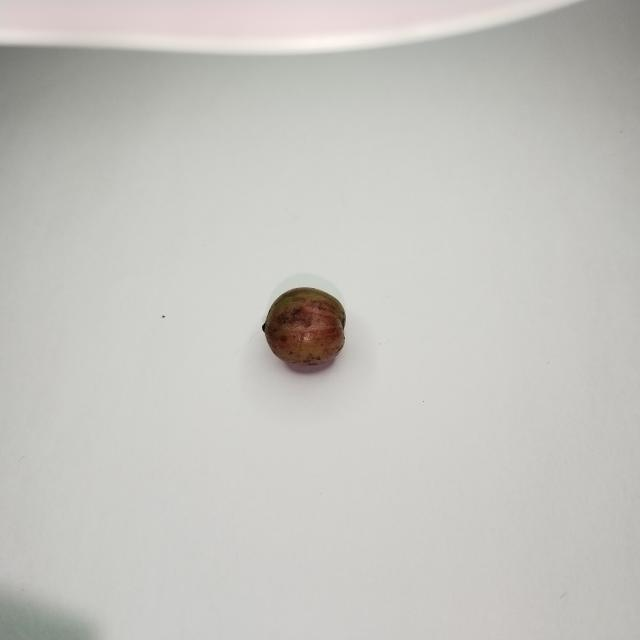Sano: (262, 287, 346, 372)
